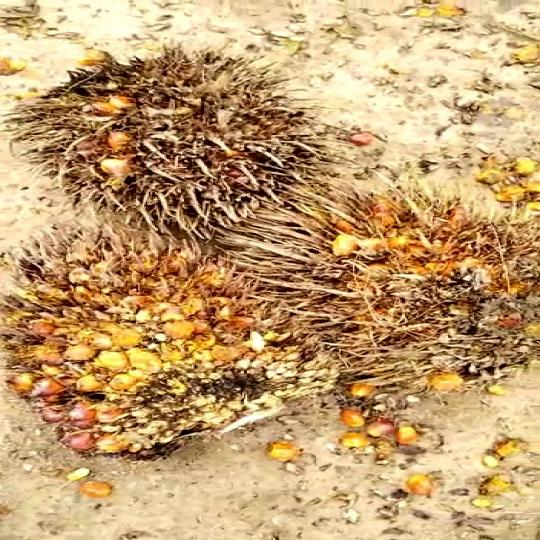terlalu masak: (210, 182, 540, 398), (0, 246, 308, 461), (9, 48, 296, 246)
